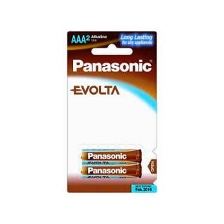battery: (76, 163, 144, 182), (75, 146, 142, 163)
book: (60, 27, 163, 196)
